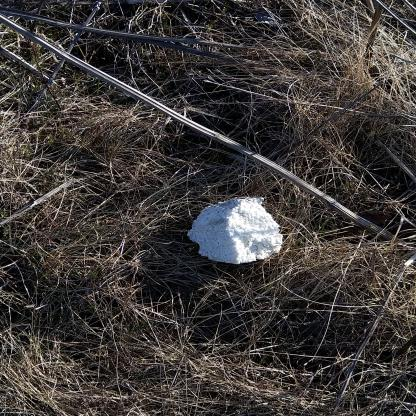kopuk: (187, 198, 283, 264)
